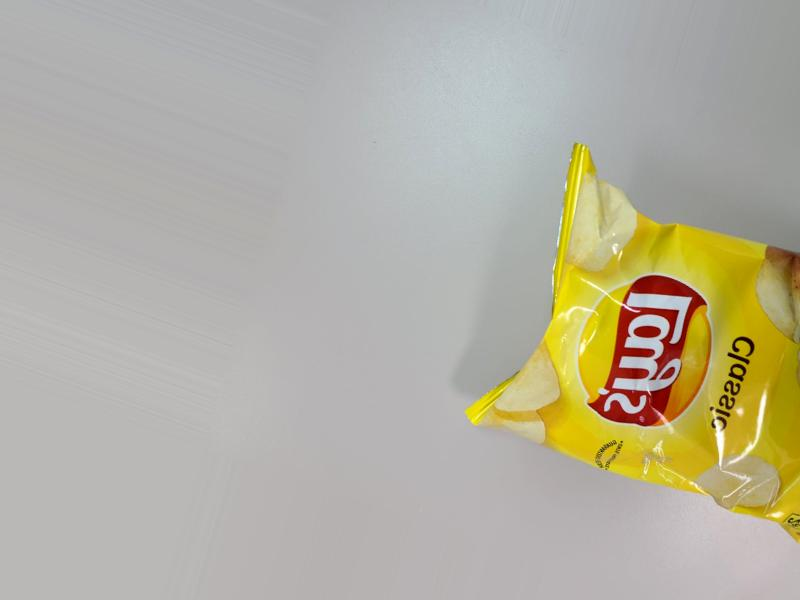lays: (423, 172, 773, 498)
